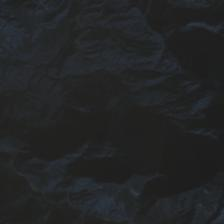landslides: (12, 193, 34, 218), (120, 201, 129, 221)
